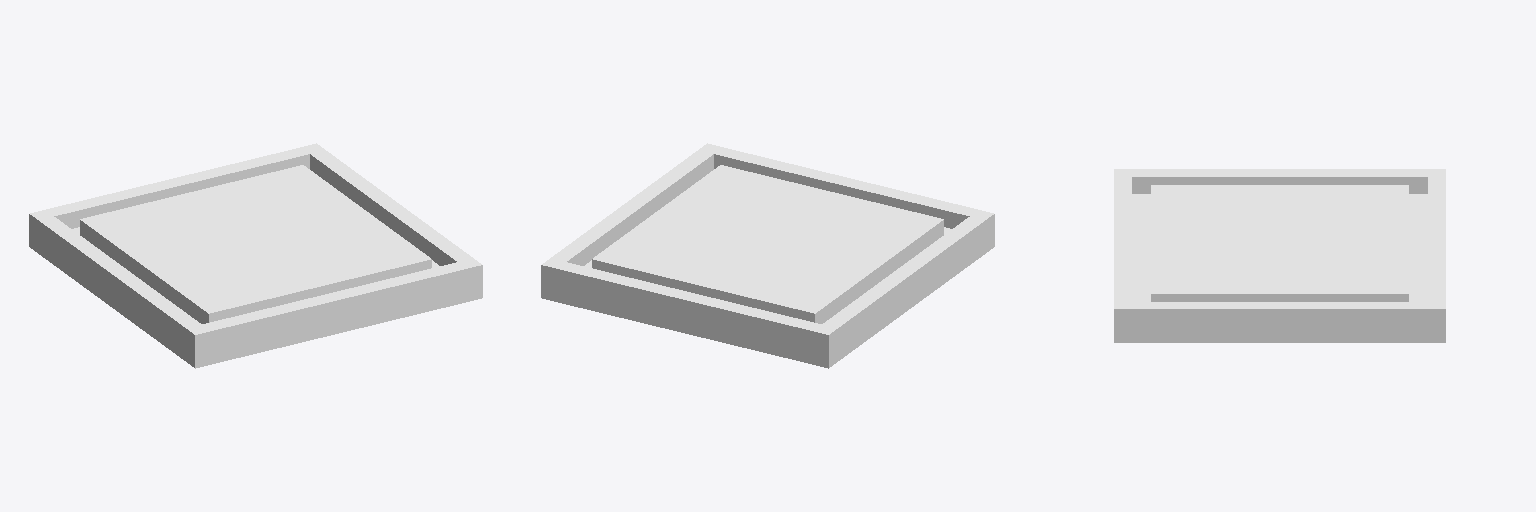
The model's file is FloorTile3.obj.
3 views of the same model, side by side, from view 1: azimuth 30°, elevation 25°; view 2: azimuth 150°, elevation 25°; view 3: azimuth 270°, elevation 25° (orthographic).
Parts seen in each view (by area): view 1: object 1; view 2: object 1; view 3: object 1.
Part boxes in pixels (x1,y1,x2,y2): object 1: (29,143,482,368); object 1: (541,143,994,368); object 1: (1114,169,1445,342).
Size of the model in its own units: 1.8 by 0.2 by 1.8.